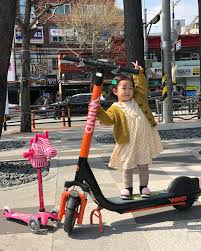kick_wheel: (171, 177, 200, 209), (60, 190, 79, 233)
